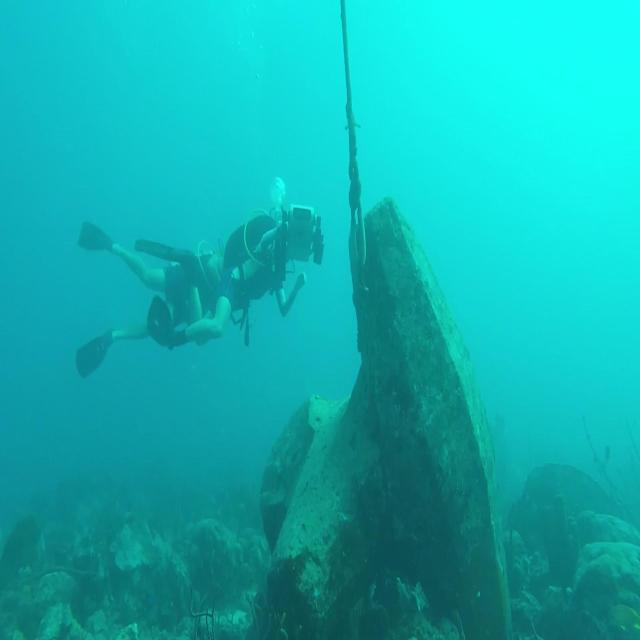human: (75, 219, 225, 379), (181, 196, 305, 322)
